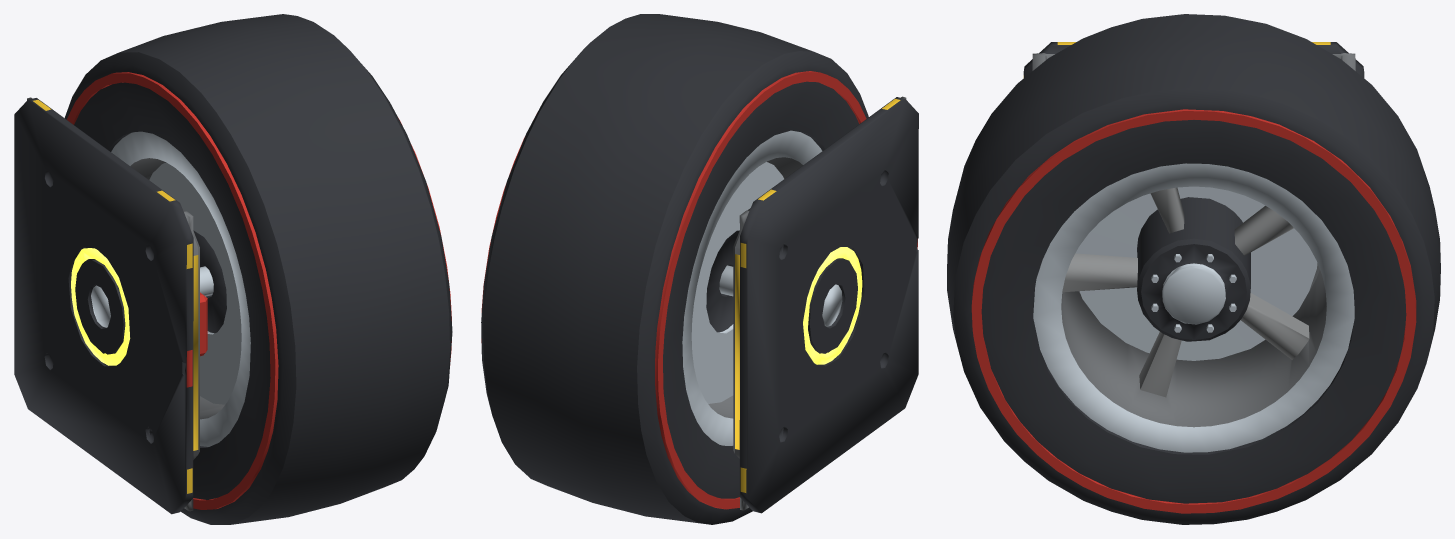
The model's file is R4M_WheelM_Side_Slick_LOD1.fbx.
3 renders of one model, left to right at view 1: azimuth 30°, elevation 25°; view 2: azimuth 150°, elevation 25°; view 3: azimuth 270°, elevation 25°, orthographic.
Parts seen in each view (by area): view 1: R4M_WheelM_Side_Slick_Rotor_LOD1, R4M_WheelM_Side_Slick_Mount_LOD1; view 2: R4M_WheelM_Side_Slick_Rotor_LOD1, R4M_WheelM_Side_Slick_Mount_LOD1; view 3: R4M_WheelM_Side_Slick_Rotor_LOD1, R4M_WheelM_Side_Slick_Mount_LOD1.
Part boxes in pixels (<box>): R4M_WheelM_Side_Slick_Rotor_LOD1: <box>64,14,452,524</box>; R4M_WheelM_Side_Slick_Mount_LOD1: <box>14,97,213,514</box>; R4M_WheelM_Side_Slick_Rotor_LOD1: <box>481,14,868,524</box>; R4M_WheelM_Side_Slick_Mount_LOD1: <box>719,96,918,513</box>; R4M_WheelM_Side_Slick_Rotor_LOD1: <box>947,14,1440,524</box>; R4M_WheelM_Side_Slick_Mount_LOD1: <box>1023,42,1364,293</box>.
Size of the model in its own units: 0.4138 by 0.74 by 0.74.
